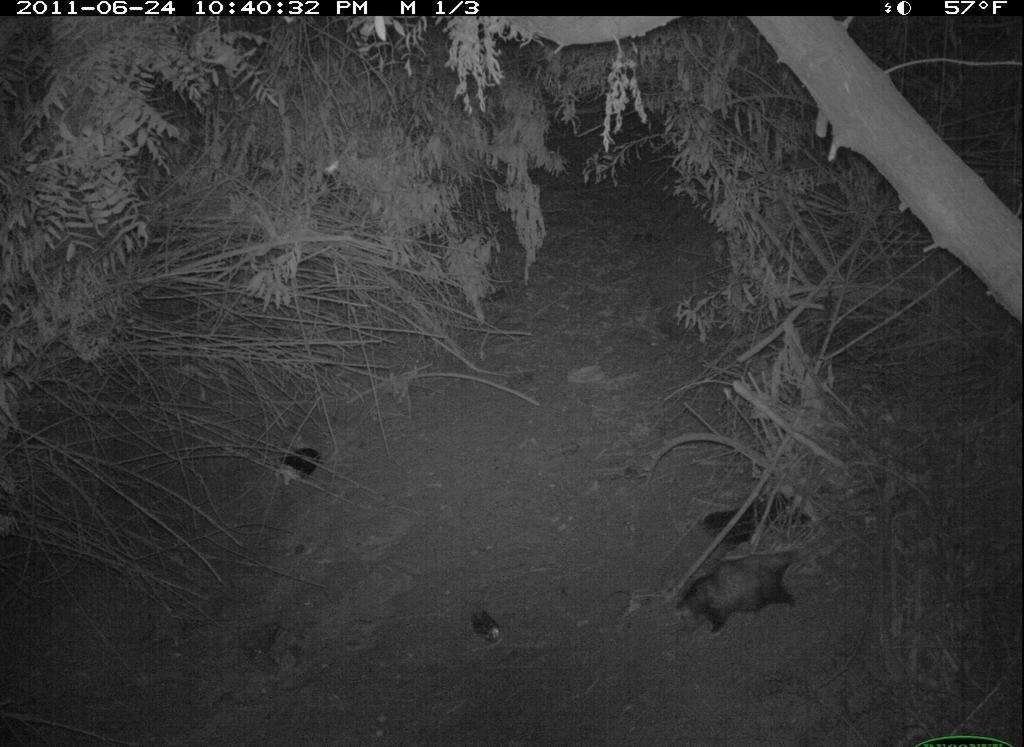opossum: (681, 541, 829, 641)
